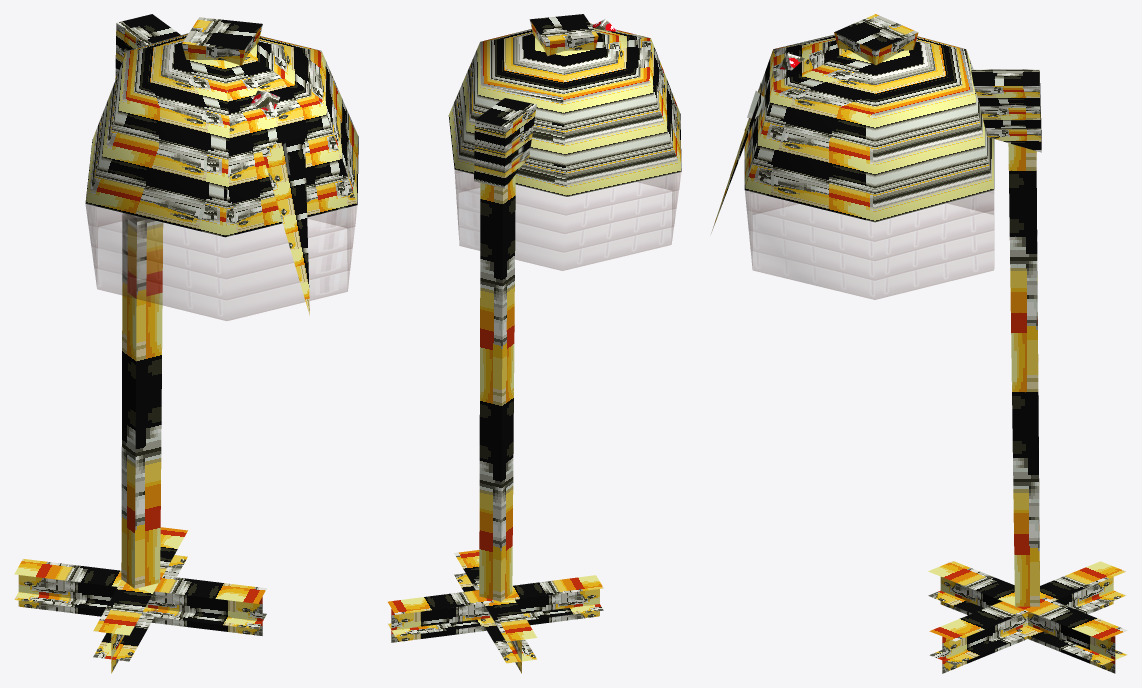
3 views of the same model, side by side, from view 1: azimuth 30°, elevation 25°; view 2: azimuth 150°, elevation 25°; view 3: azimuth 270°, elevation 25° (orthographic). The views are drawn at different scales.
Visible parts, largest first — view 1: 3936kg3_gs28; view 2: 3936kg3_gs28; view 3: 3936kg3_gs28.
Part boxes in pixels (bbox=[...]): 3936kg3_gs28: bbox=[14, 14, 358, 673]; 3936kg3_gs28: bbox=[388, 14, 681, 673]; 3936kg3_gs28: bbox=[711, 14, 1127, 673].
Size of the model in its own units: 0.7622 by 1.72 by 1.08.
Materials: 4 (4 with a texture image).
